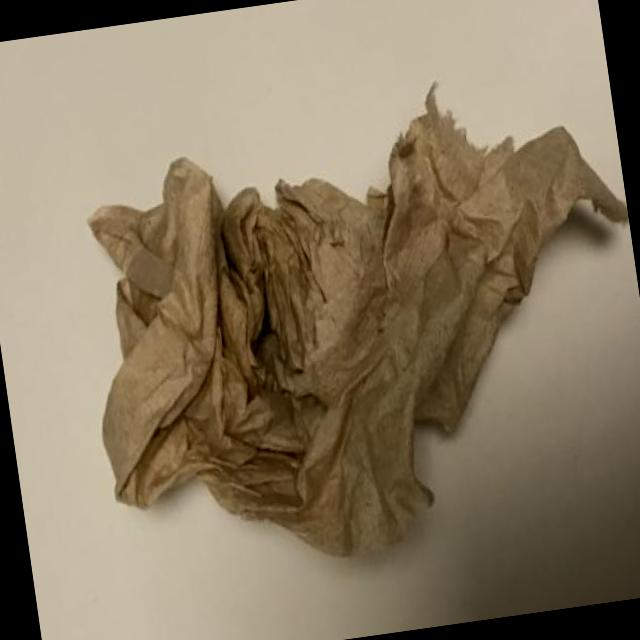Recycle: (56, 55, 640, 597)
